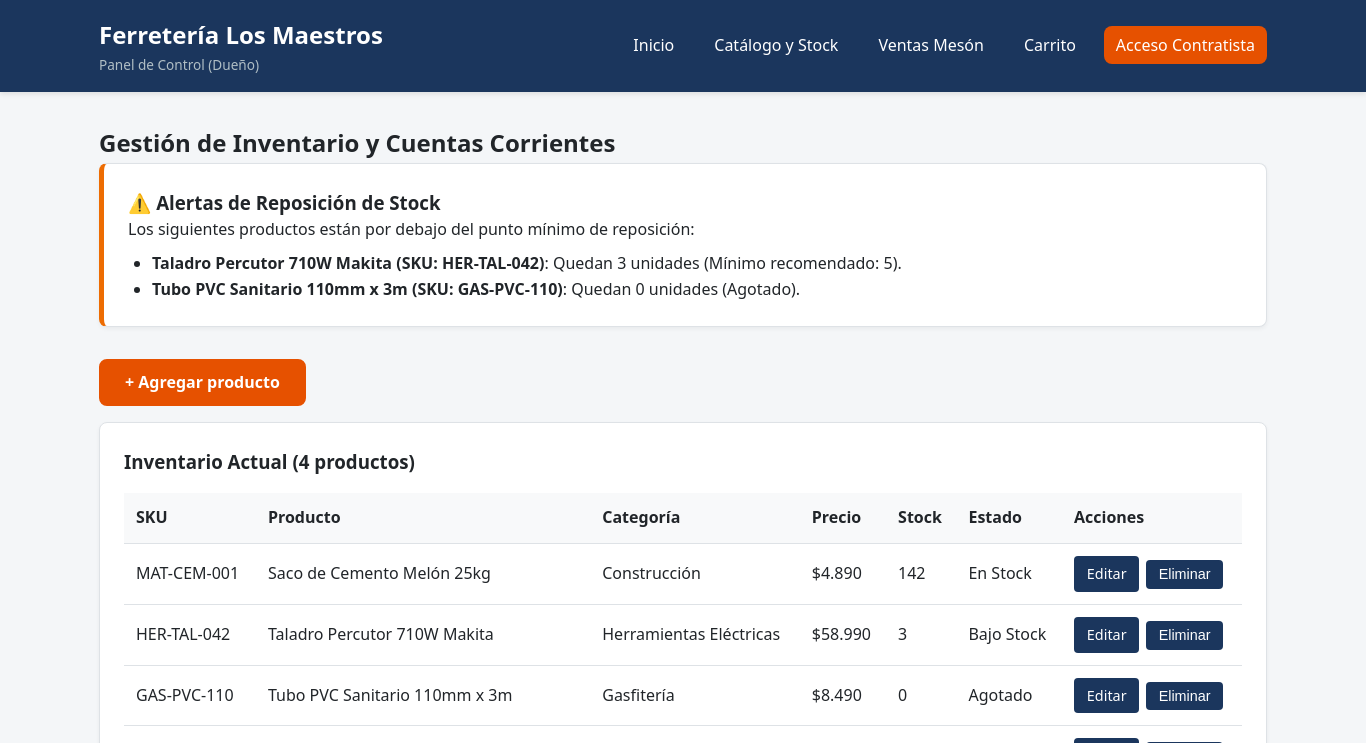
Admin › al confirmar, elimina el producto y muestra el mensaje
The image size is (1366, 743).
Click the button "Eliminar" in the row of "MAT-CEM-001". click: [1185, 574]
box: [1146,560,1223,589]
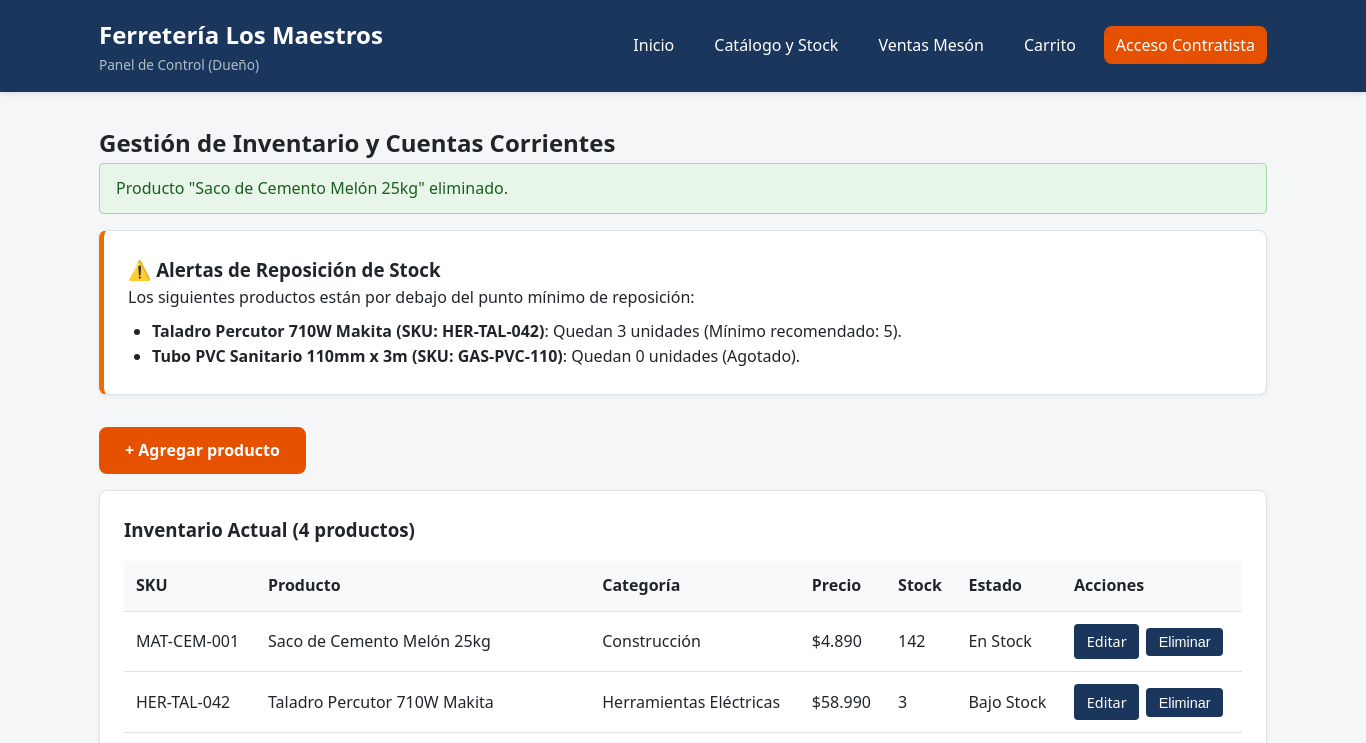
Result: the message shows "eliminado" at [116,176,508,198]
